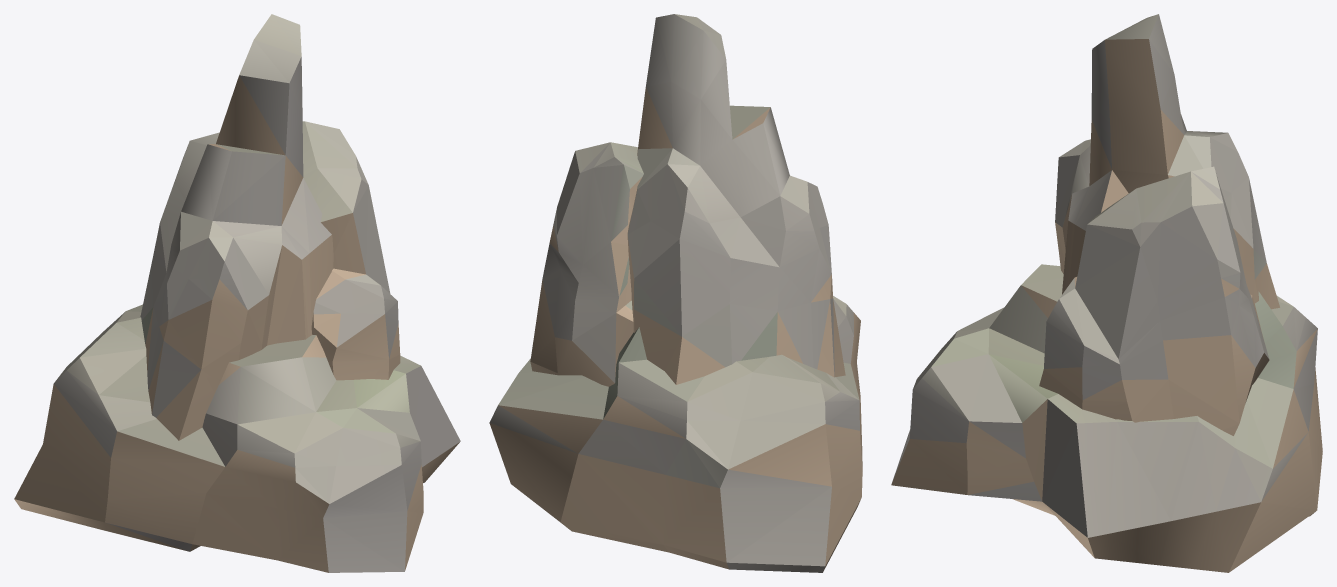
File: mesa_1.glb
3 views of the same model, side by side, from view 1: azimuth 30°, elevation 25°; view 2: azimuth 150°, elevation 25°; view 3: azimuth 270°, elevation 25° (orthographic). The views are drawn at different scales.
Visible parts, largest first — view 1: mesa_1; view 2: mesa_1; view 3: mesa_1.
Boxes of the visible parts, x1=… form: mesa_1: x1=14, y1=14, x2=460, y2=572; mesa_1: x1=489, y1=14, x2=862, y2=572; mesa_1: x1=891, y1=14, x2=1322, y2=572.
Bounding box in the file's own units: 21.33 × 28 × 21.77.
